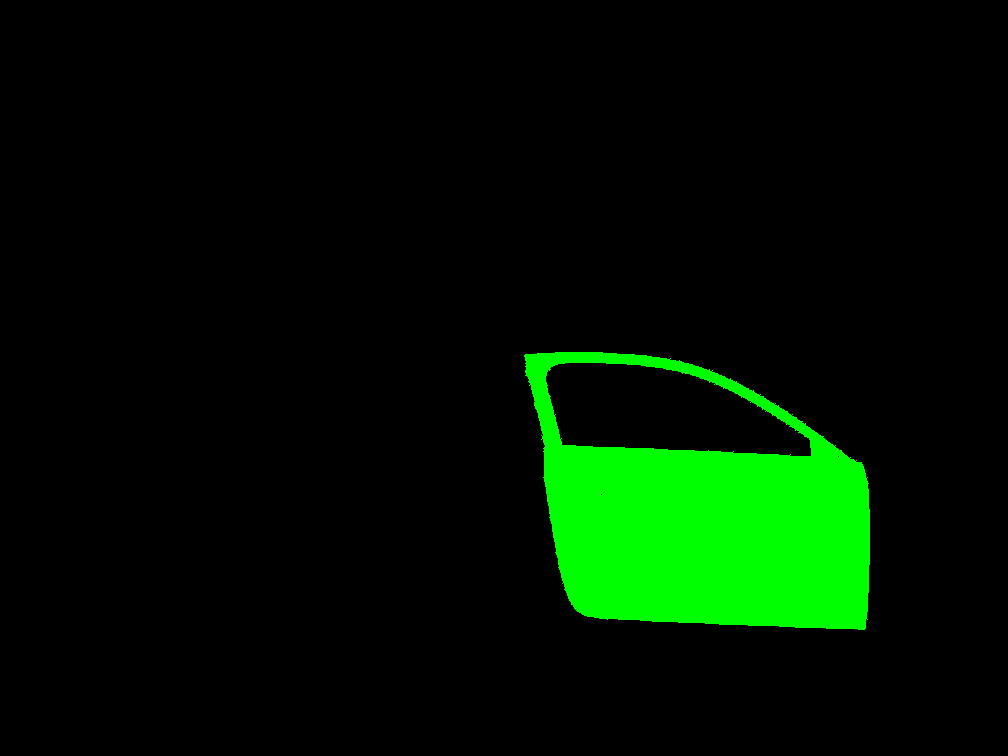car_door: (524, 352, 869, 629)
